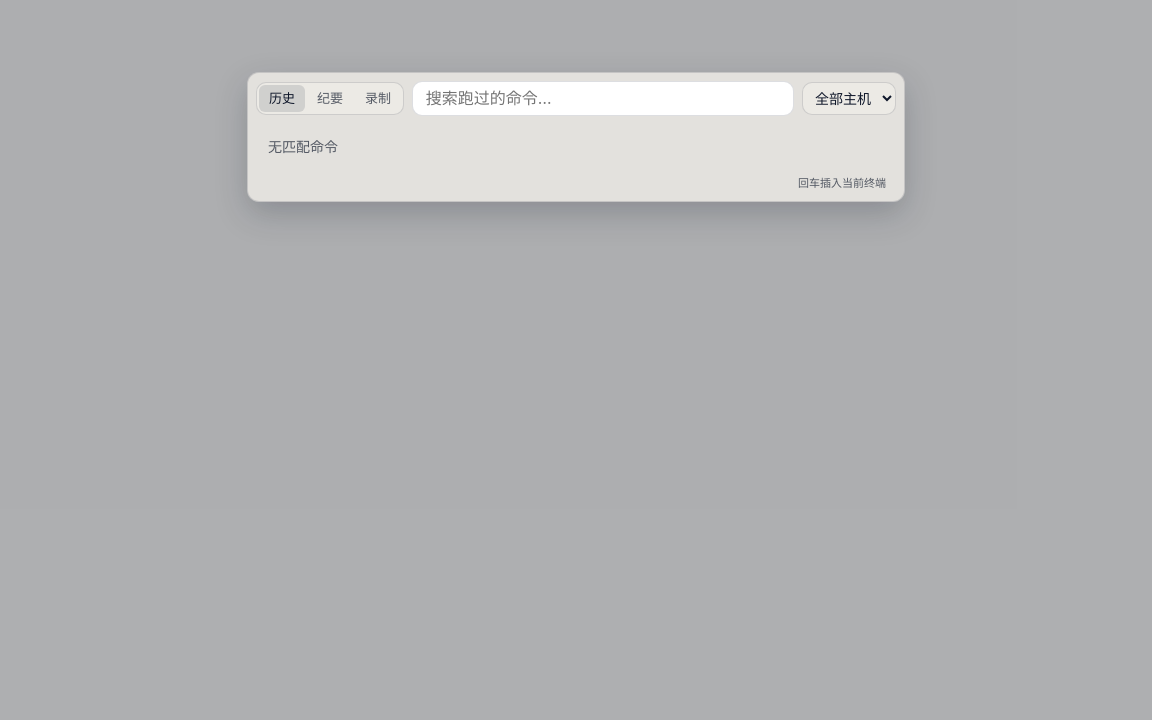
Test case: 触发链端到端（断开→生成→入库→面板可见） › 3 命令会话 closeTab → 纪要入库（脱敏）→ ⌘R 纪要页签可查
Click the tab with test id "summary-tab" at (330, 98), box [307, 85, 353, 112]
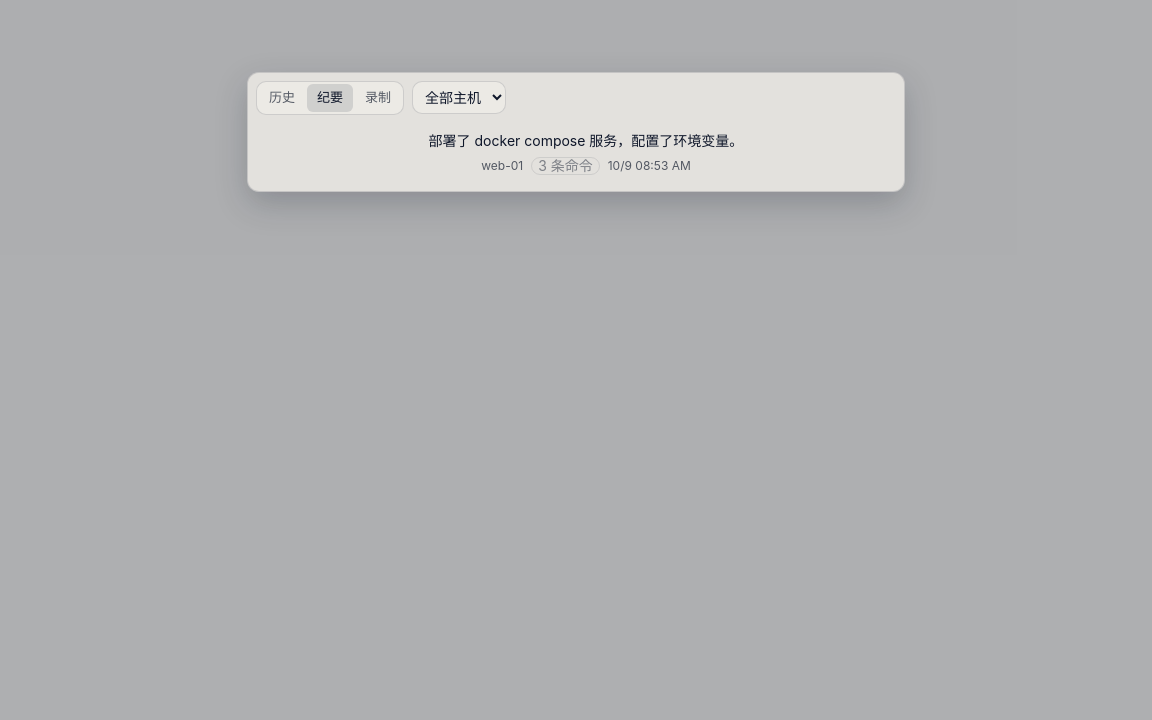
Now the text "部署了 docker compose 服务，配置了环境变量。" is shown, box [429, 130, 743, 151]
